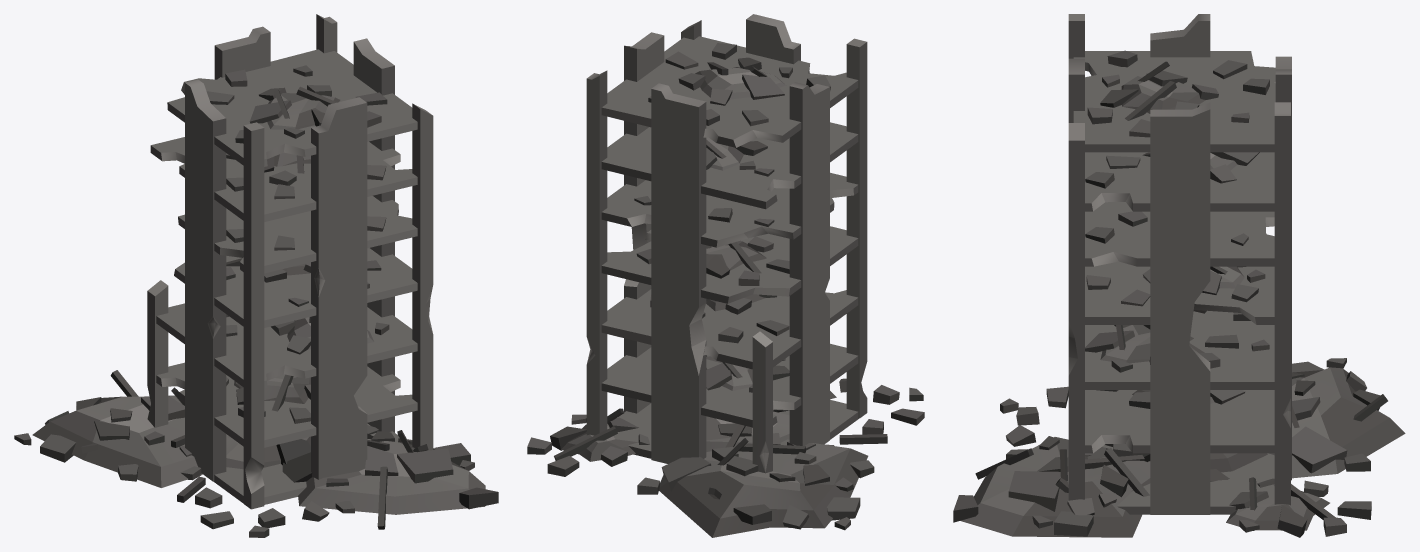
The model's file is SA_Bld_Building_Damaged_03.gltf.
3 renders of one model, left to right at view 1: azimuth 30°, elevation 25°; view 2: azimuth 150°, elevation 25°; view 3: azimuth 270°, elevation 25°, orthographic. The views are drawn at different scales.
Parts seen in each view (by area): view 1: SA_Bld_Building_Damaged_03; view 2: SA_Bld_Building_Damaged_03; view 3: SA_Bld_Building_Damaged_03.
Boxes of the visible parts, left/top/right/bottom form: SA_Bld_Building_Damaged_03: left=14, top=14, right=498, bottom=537; SA_Bld_Building_Damaged_03: left=527, top=14, right=924, bottom=537; SA_Bld_Building_Damaged_03: left=953, top=14, right=1405, bottom=537.
Bounding box in the file's own units: 23.75 × 26.92 × 26.32.
Materials: 1 (1 with a texture image).
